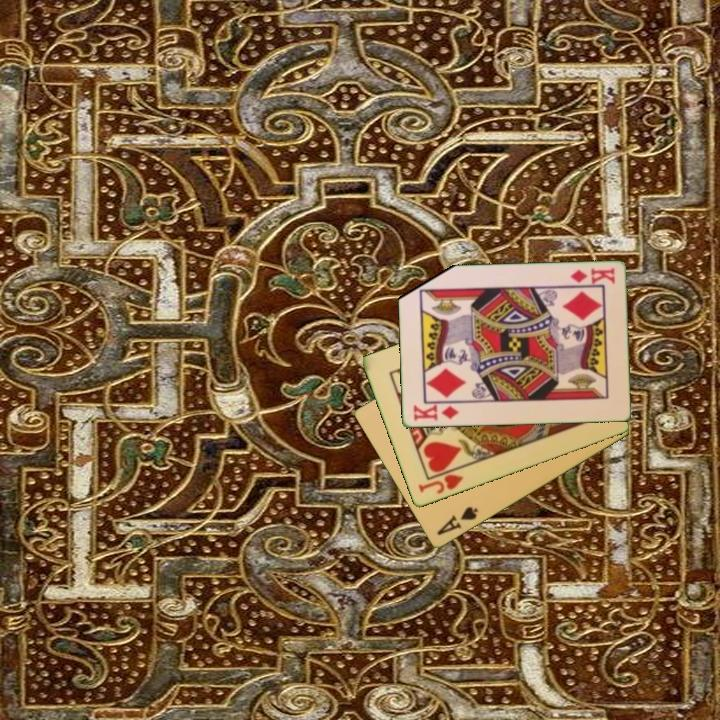As: (433, 503, 481, 539)
Jh: (414, 464, 467, 497)
Kd: (409, 401, 461, 424), (566, 265, 618, 287)
